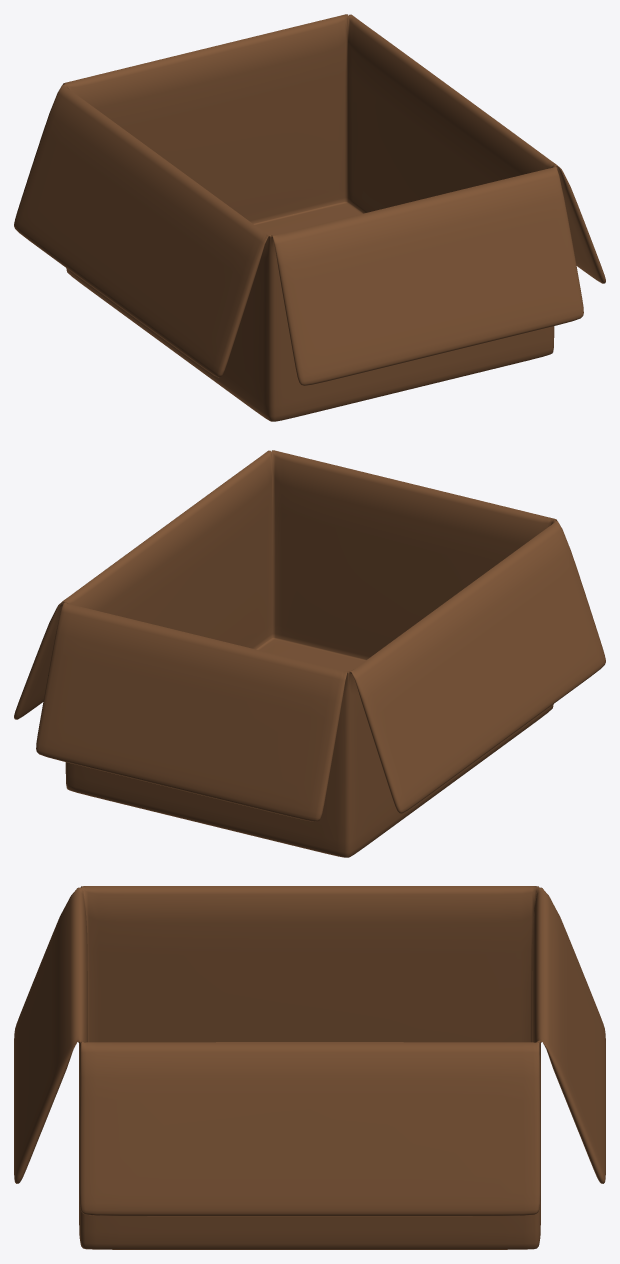
3 renders of one model, top to bottom at view 1: azimuth 30°, elevation 25°; view 2: azimuth 150°, elevation 25°; view 3: azimuth 270°, elevation 25°, orthographic. The views are drawn at different scales.
Visible parts, largest first — view 1: Cube.003; view 2: Cube.003; view 3: Cube.003.
Boxes of the visible parts, x1,y1,x2,y2 form: Cube.003: [14, 14, 605, 421]; Cube.003: [14, 450, 605, 857]; Cube.003: [14, 886, 605, 1249].
Bounding box in the file's own units: 645 × 301 × 765.
